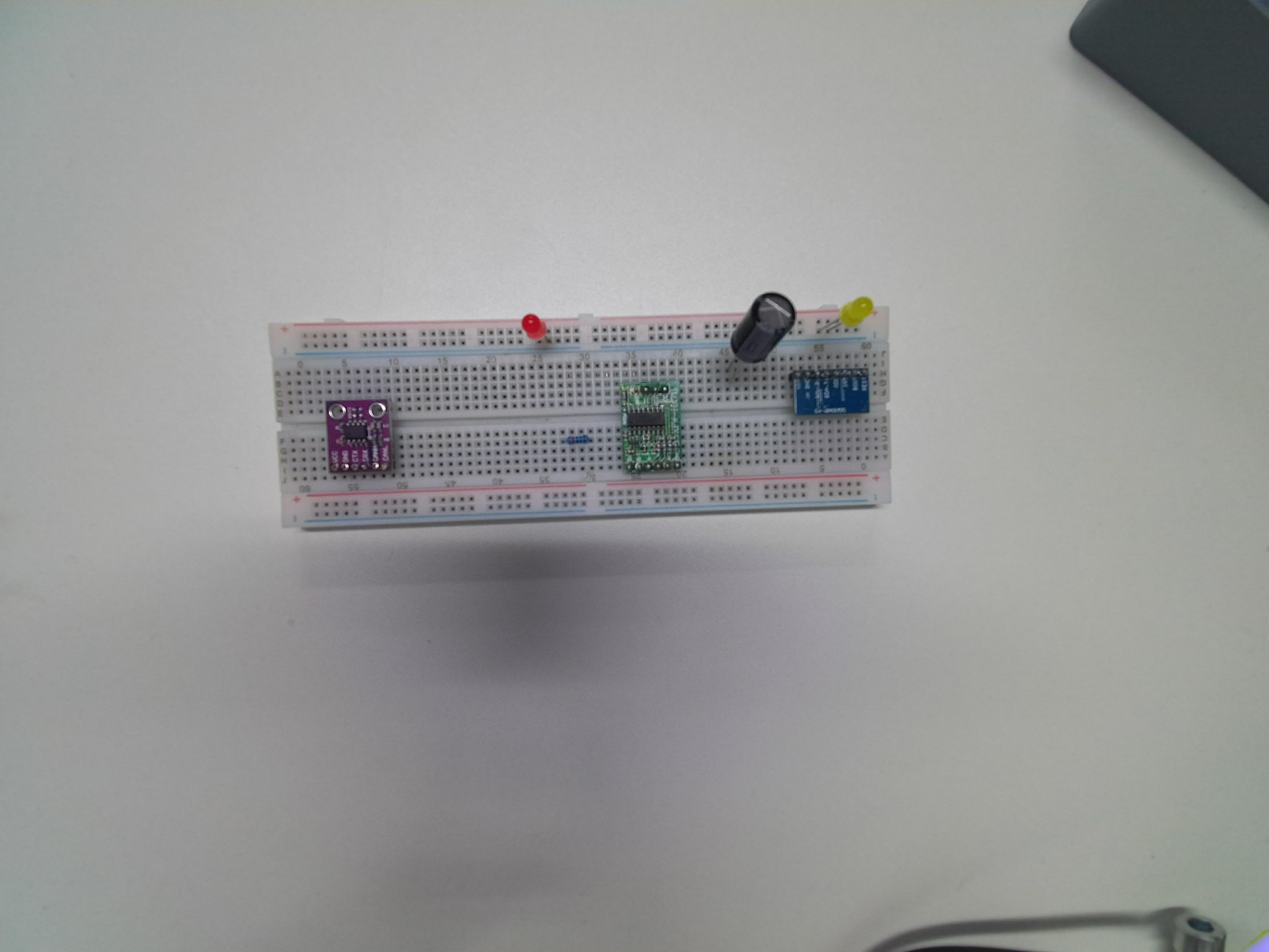base: (270, 304, 893, 531)
blue-board: (792, 361, 871, 418)
capacitor: (728, 289, 799, 366)
esp: (616, 379, 685, 476)
green-board: (617, 379, 686, 474)
purple-board: (325, 398, 395, 478)
red-led: (519, 312, 548, 346)
resistor-small: (564, 430, 591, 448)
yellow-led: (840, 290, 878, 336)
